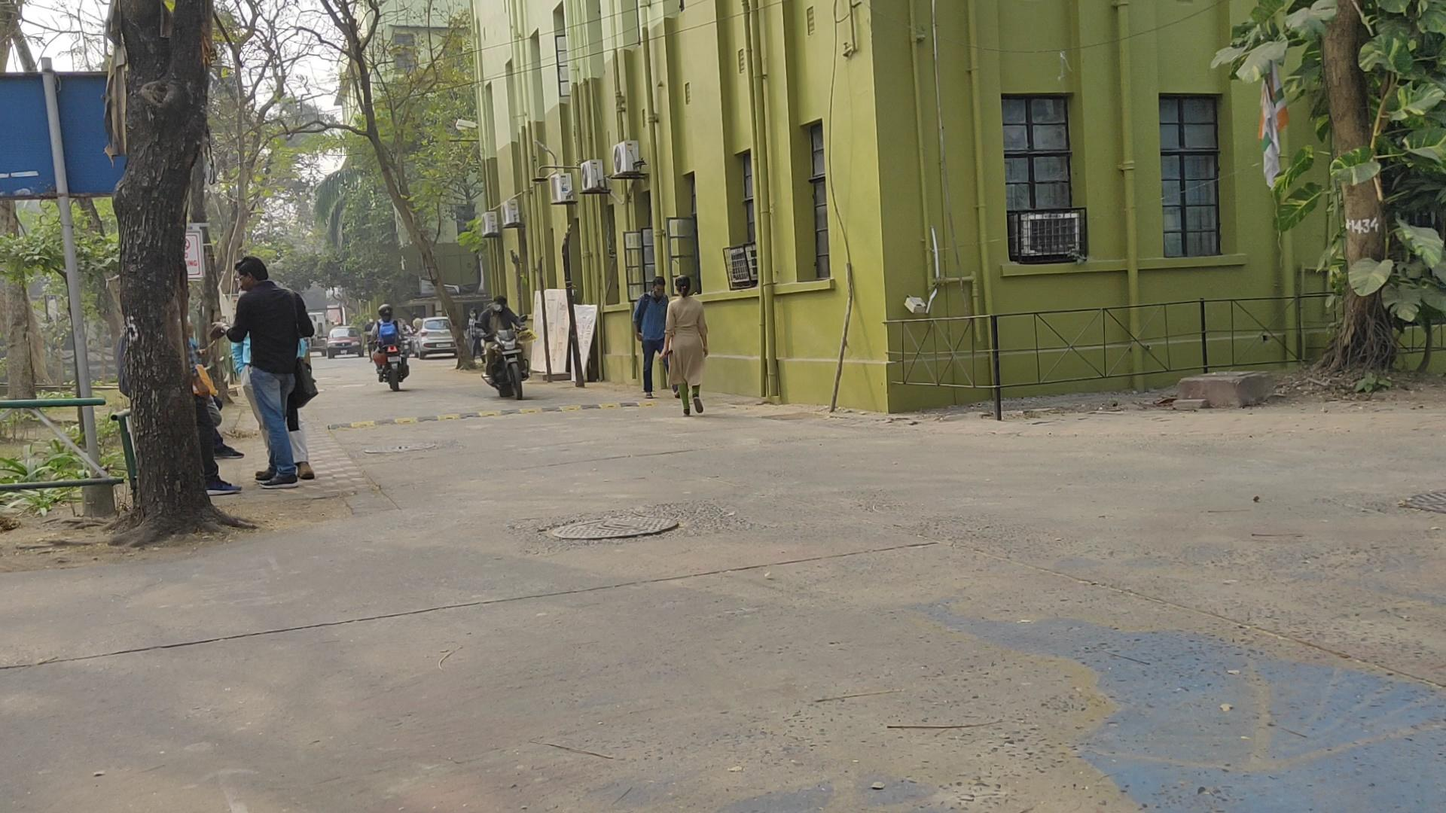bike: (473, 295, 529, 402), (368, 302, 411, 391)
car: (408, 315, 459, 358), (322, 324, 365, 361)
